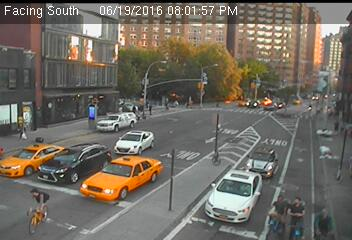neg: (19, 178, 61, 234), (138, 160, 164, 195)
pos: (14, 121, 31, 144)
